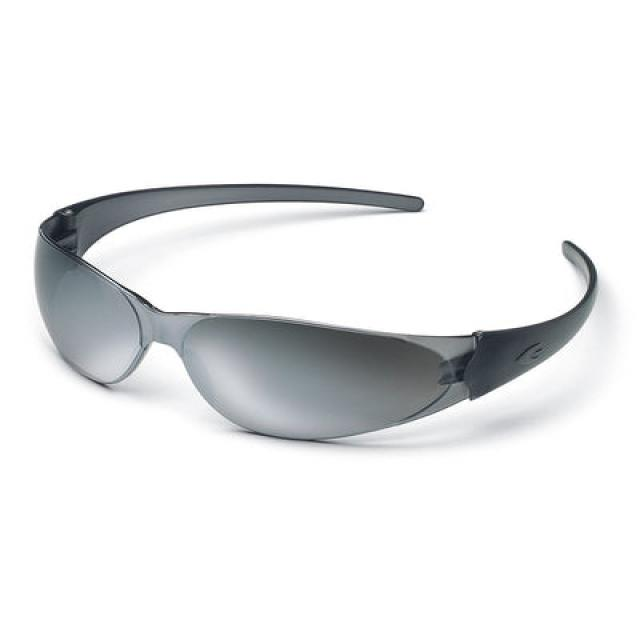Protective Glasses: (26, 172, 604, 460)
